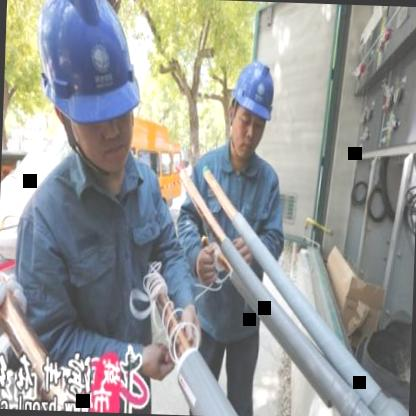helmet: (32, 0, 154, 181), (224, 51, 280, 166)
